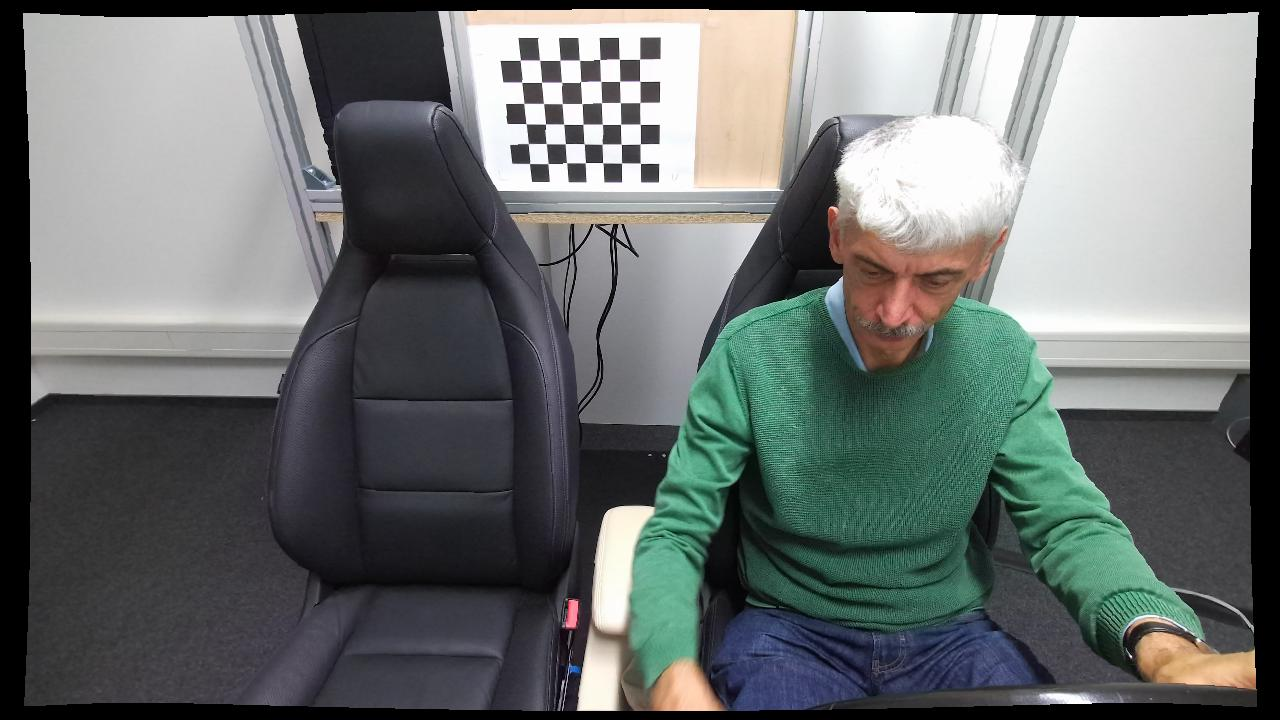Distracted: (624, 109, 1153, 717)
